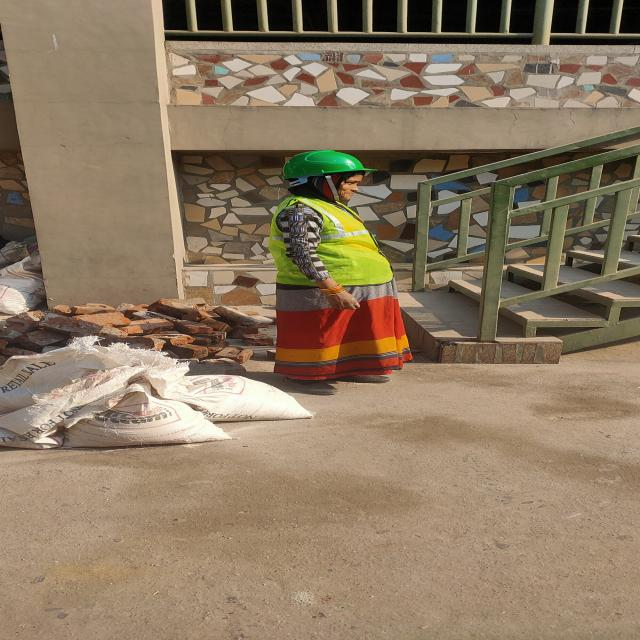safe: (277, 150, 411, 392)
